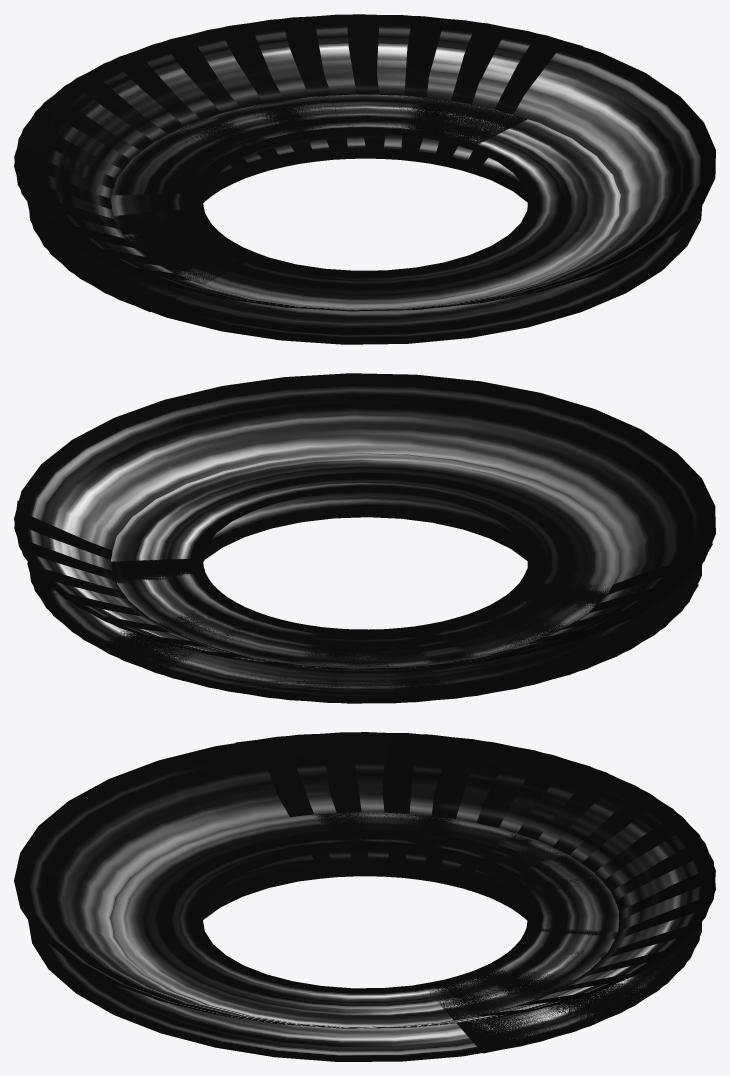
File: loft xiongmao.FBX
The picture shows the model from 3 angles, top to bottom: view 1: azimuth 30°, elevation 25°; view 2: azimuth 150°, elevation 25°; view 3: azimuth 270°, elevation 25°; orthographic projection.
Visible parts, largest first — view 1: loft xiongmao; view 2: loft xiongmao; view 3: loft xiongmao.
Boxes of the visible parts, box(x1,y1,x2,y2) form: loft xiongmao: box(14, 14, 715, 344); loft xiongmao: box(14, 373, 715, 703); loft xiongmao: box(14, 732, 715, 1061).
Size of the model in its own units: 79.63 by 79.63 by 8.86.
1 material, 1 textured.
